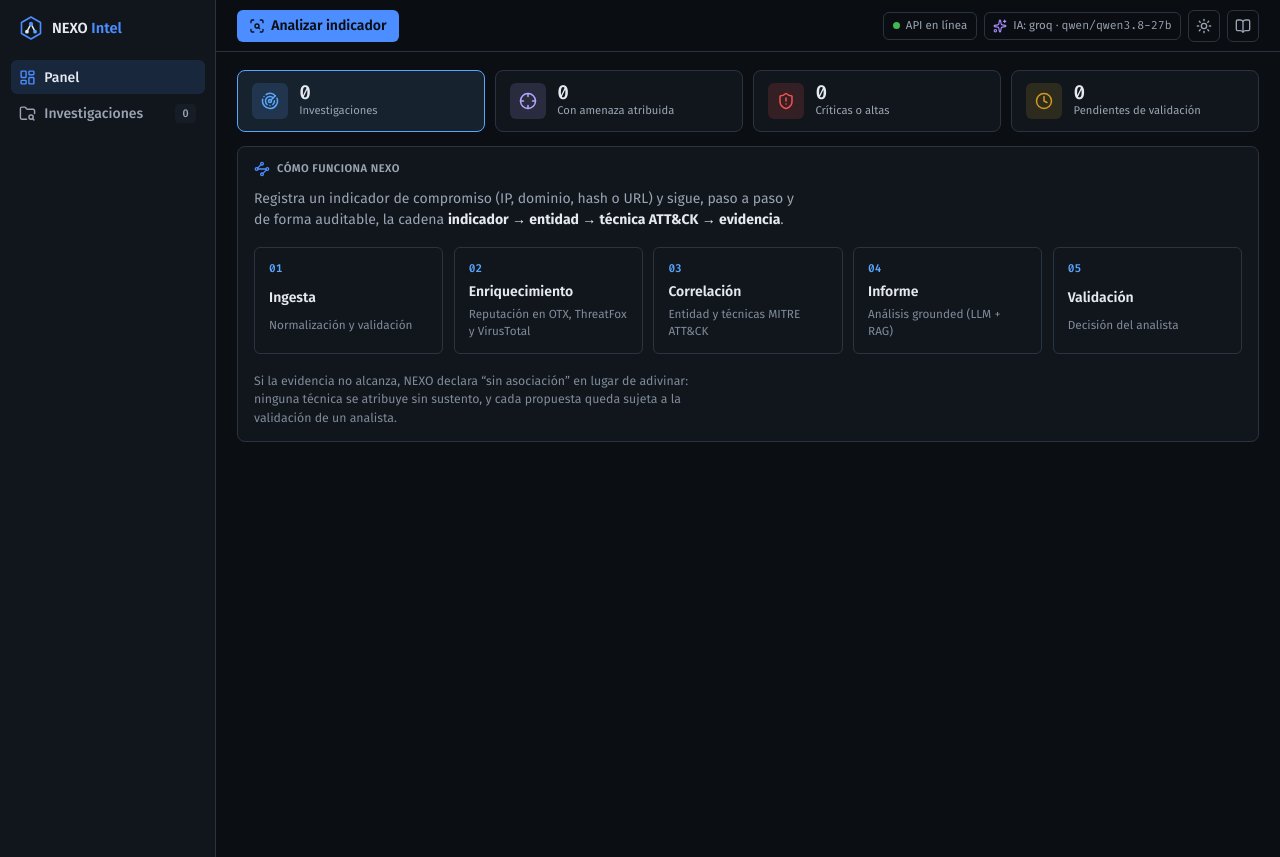
Scenario: NEXO Intel › distingue un 502 de OTX de "sin evidencia" y permite reintentar
Click the link "Analizar indicador".
click(318, 26)  # box [237,10,398,42]
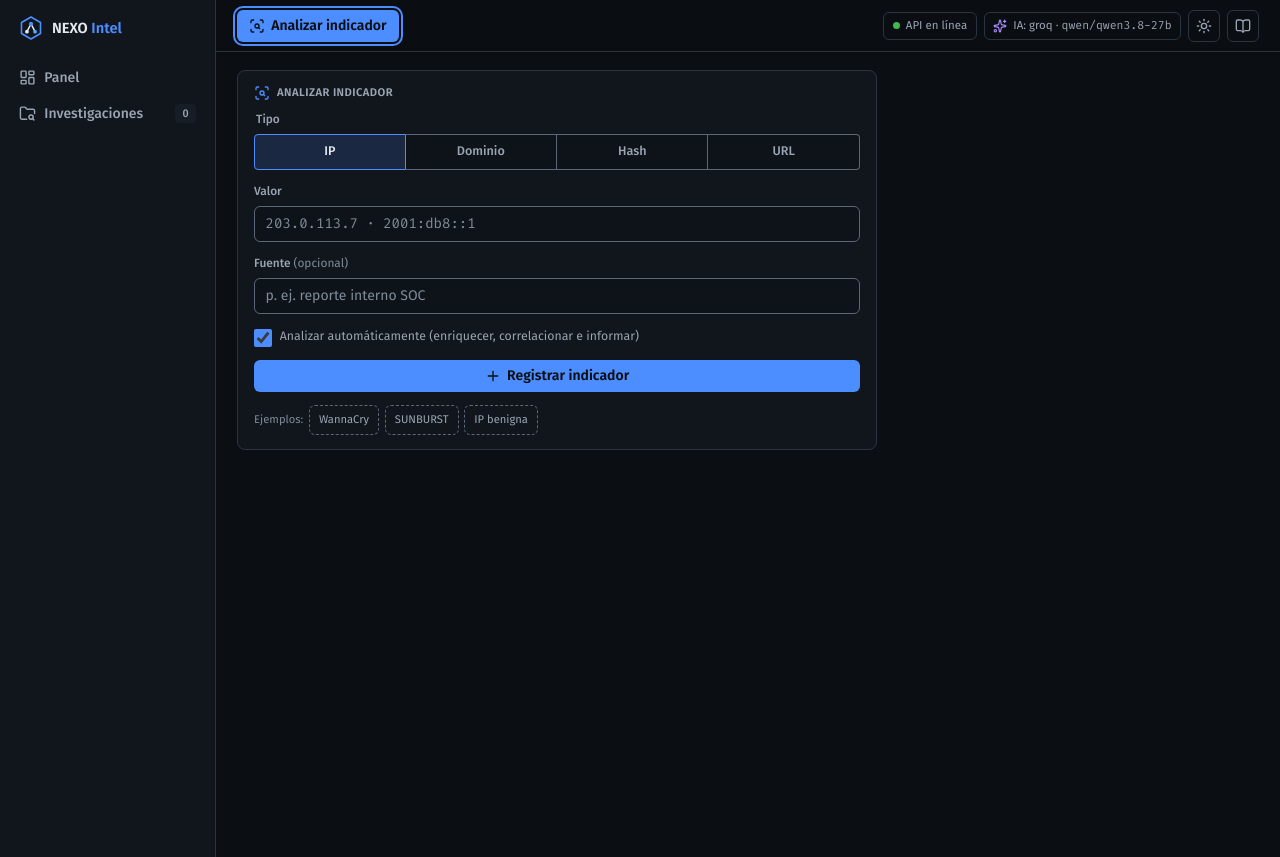
Expected: the element "Analizar indicador" is shown, [237,70,877,450]
Click the radio button labelled "Hash".
click(633, 152)  # box [557,134,708,170]
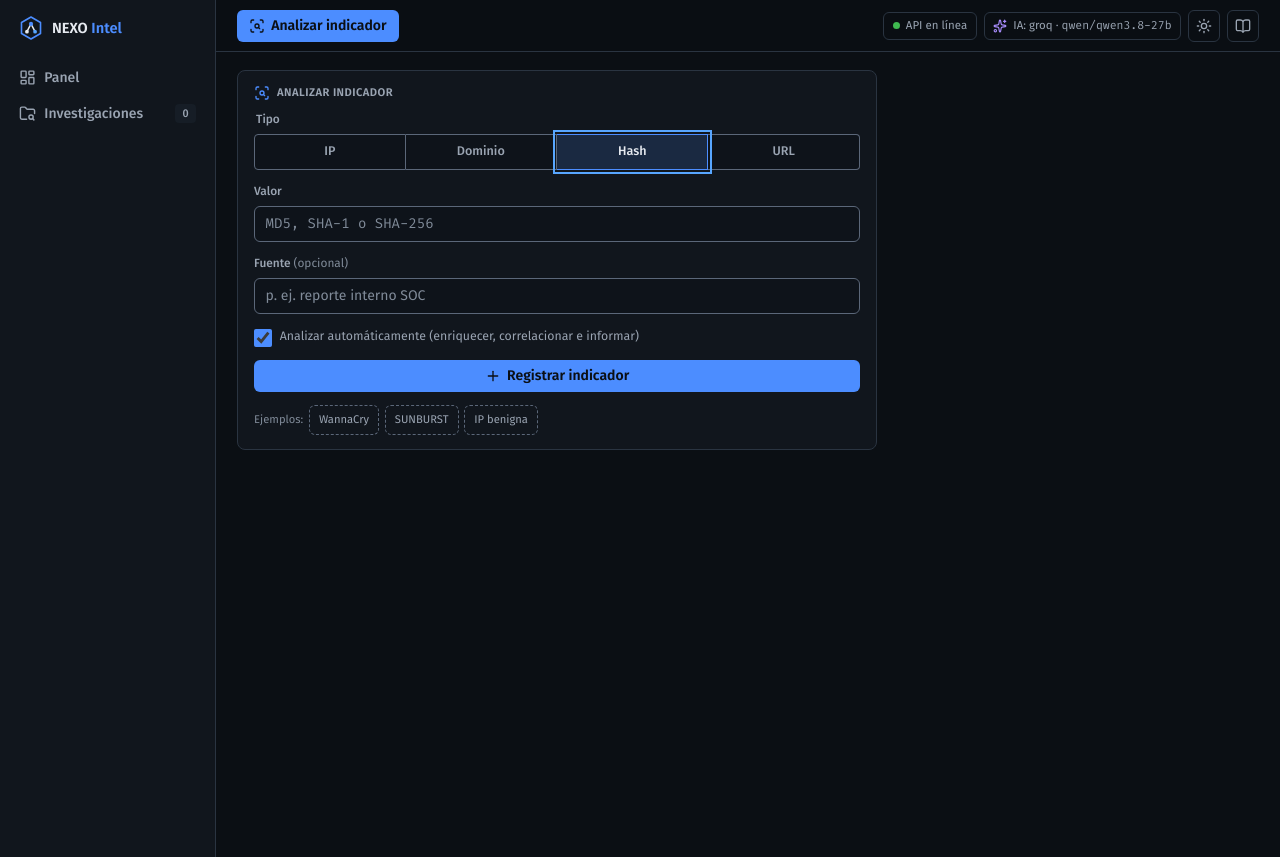
Type "24d004a104d4d54034dbcffc2a4b19a11f39008a575aa614ea04703480b1022c" into the field labelled "Valor".
click(557, 224); type("24d004a104d4d54034dbcffc2a4b19a11f39008a575aa614ea04703480b1022c")  # box [254,206,860,242]
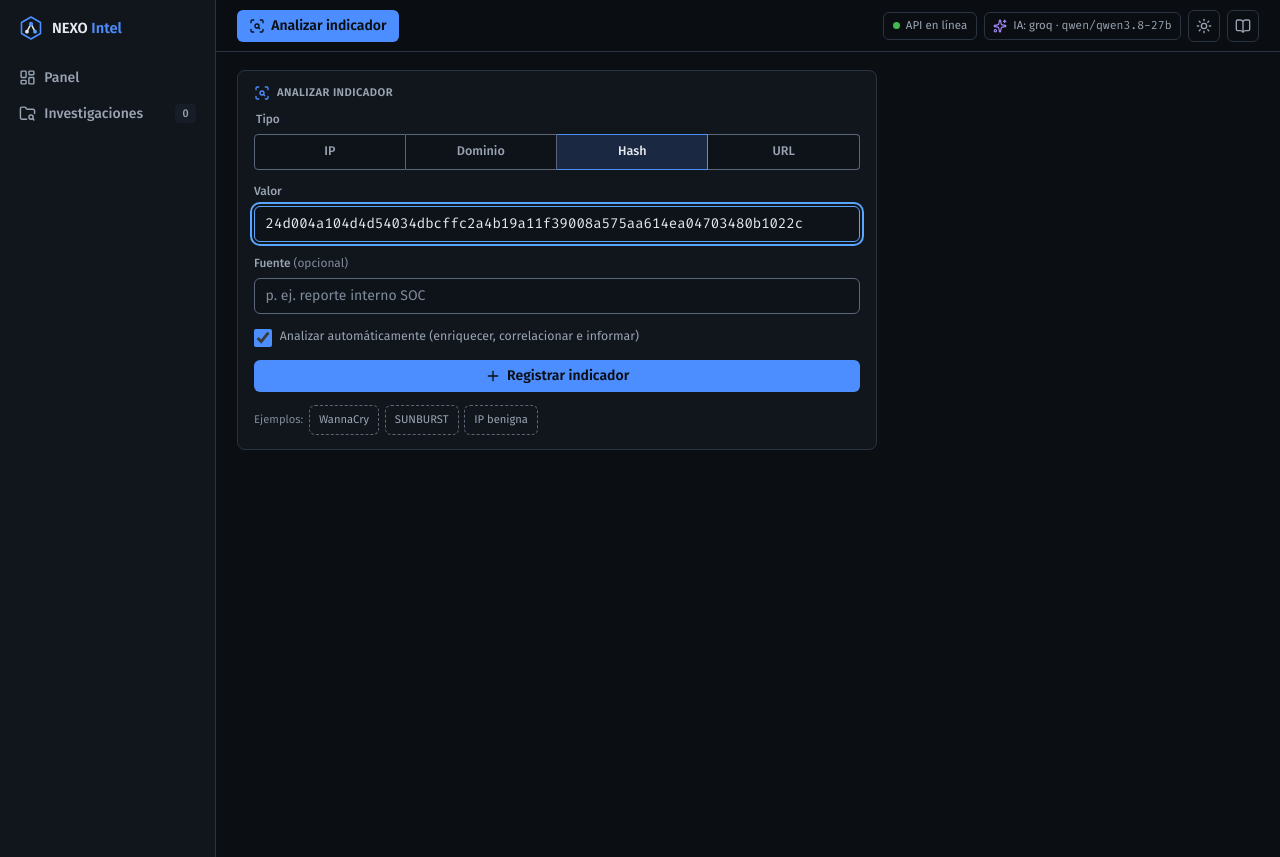
Click the button "Registrar indicador".
click(557, 376)  # box [254,360,860,392]
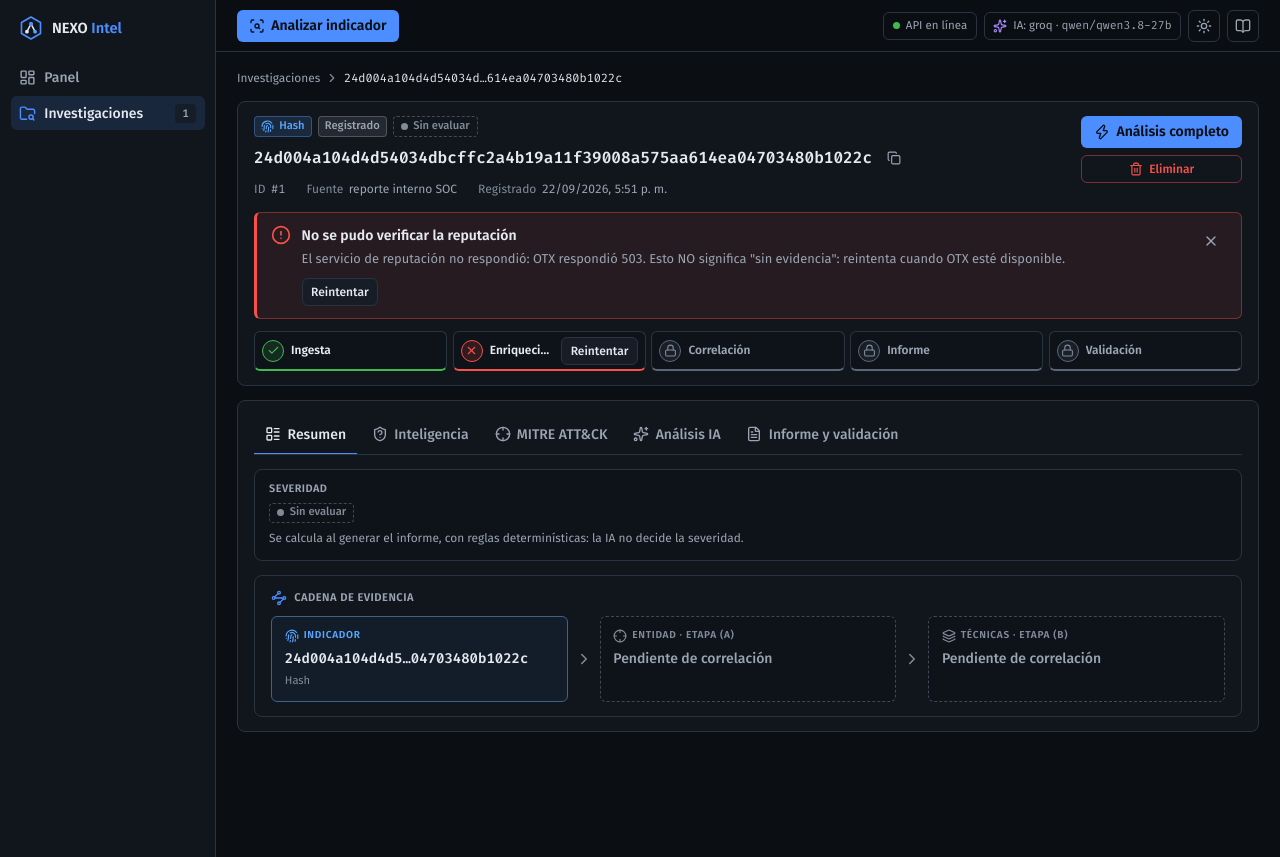
Expected: the message that starts with "No se pudo verificar la reputación" is shown, [302,227,517,244]
Expected: the message that starts with "No se pudo verificar la reputación" shows "NO significa \"sin evidencia\"", [302,251,1065,266]
Click the button "Reintentar" below "No se pudo verificar la reputación".
click(340, 292)  # box [302,278,378,306]
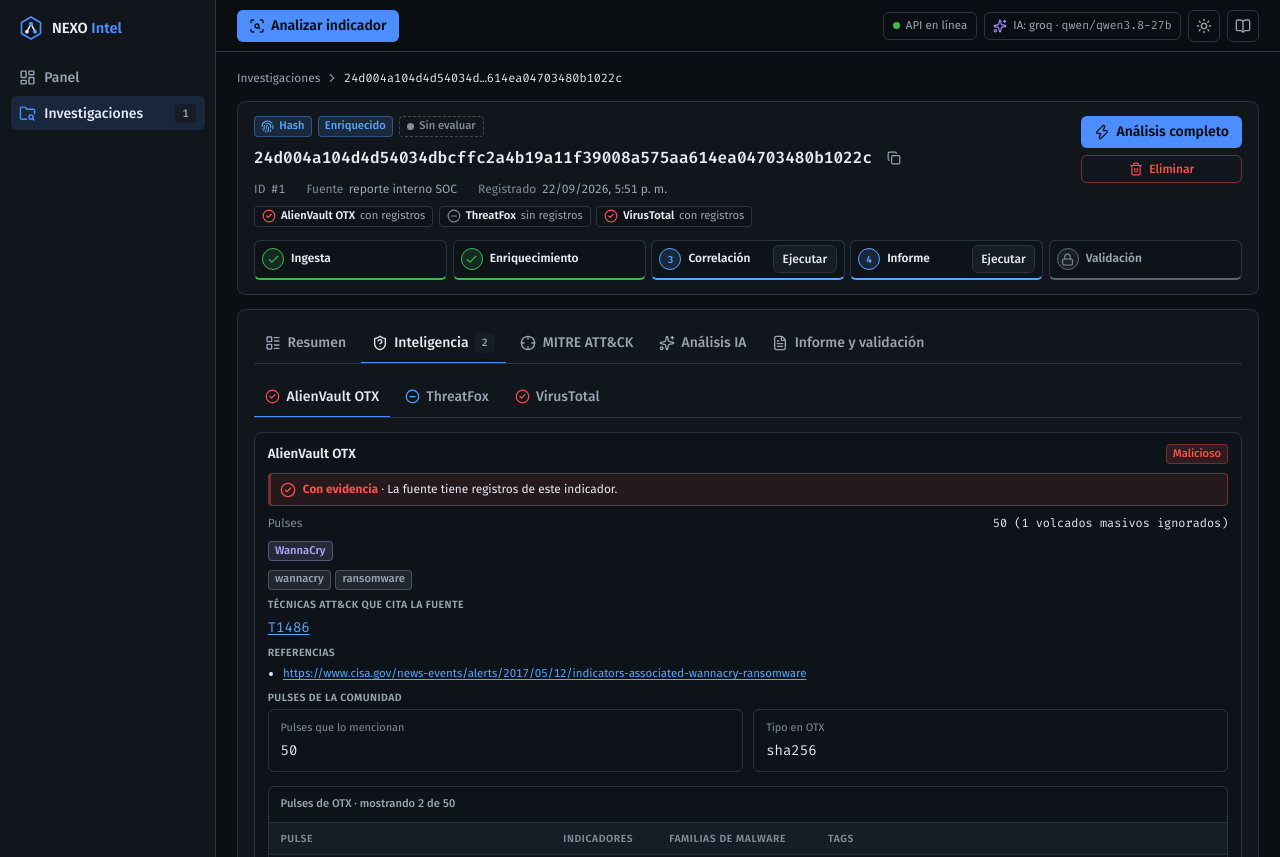
Click the button "Análisis completo".
click(1162, 132)  # box [1081,116,1242,148]
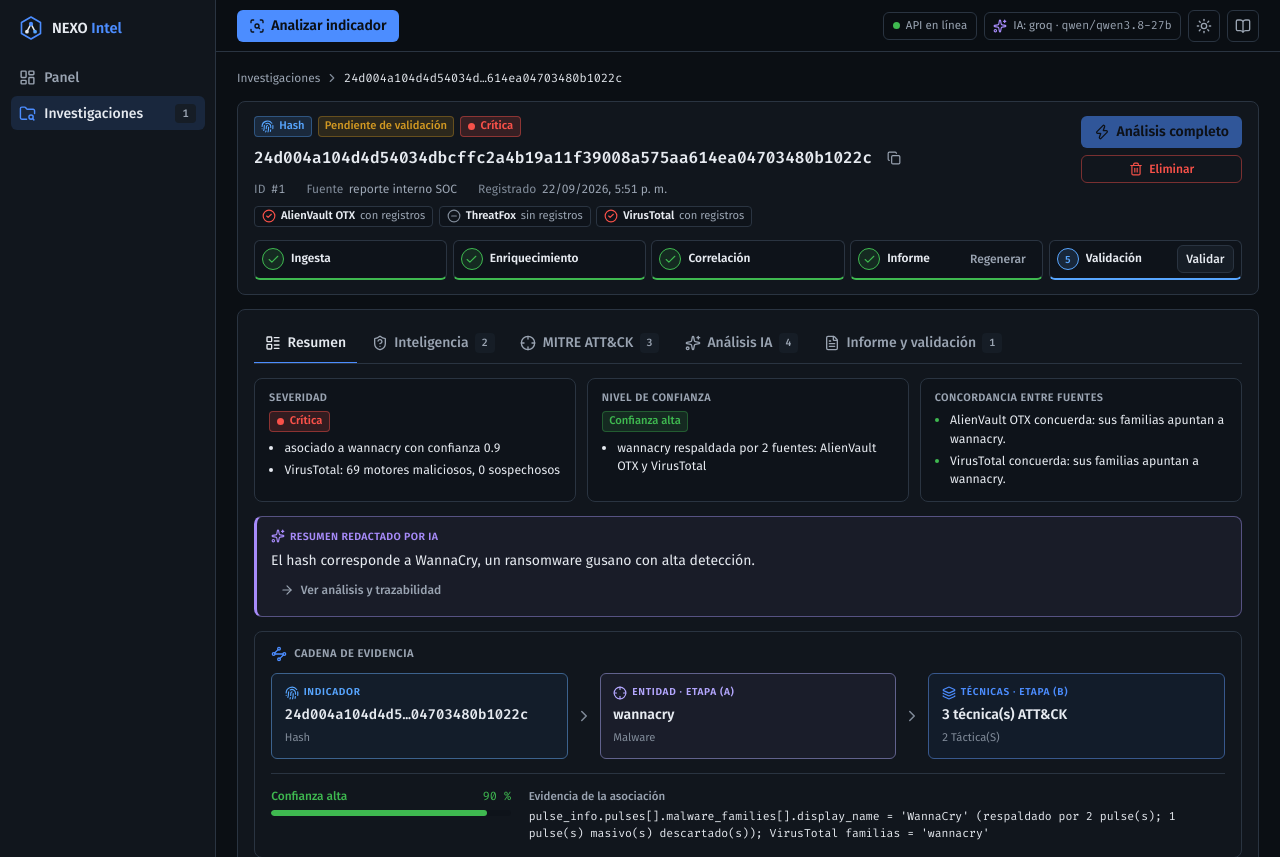
Expected: the tab "Resumen" is shown, [254,324,357,364]
Expected: the button "Análisis completo" is disabled, [1081,116,1242,148]
